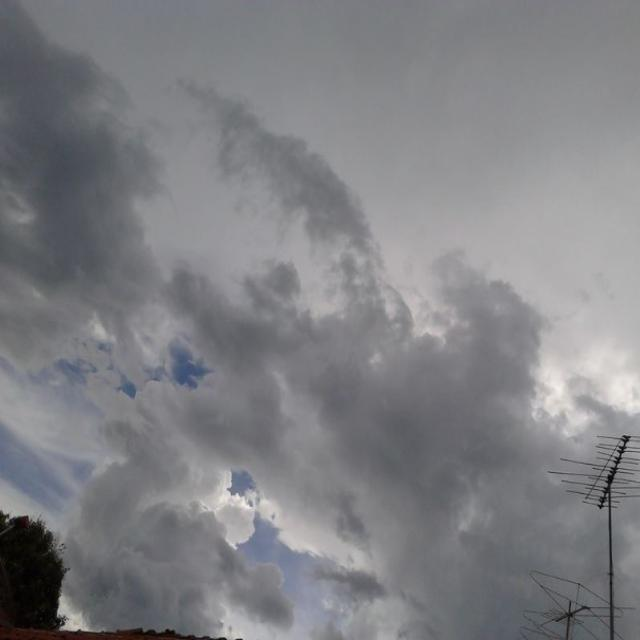Fire: (0, 6, 623, 622)
